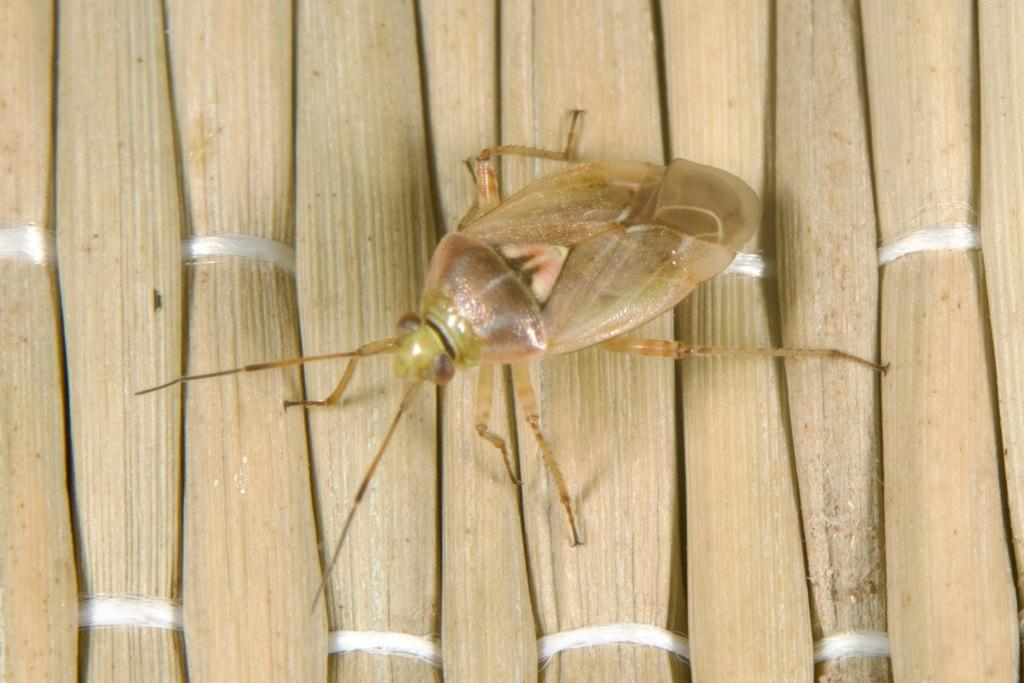plant_bugs: (59, 23, 961, 655)
